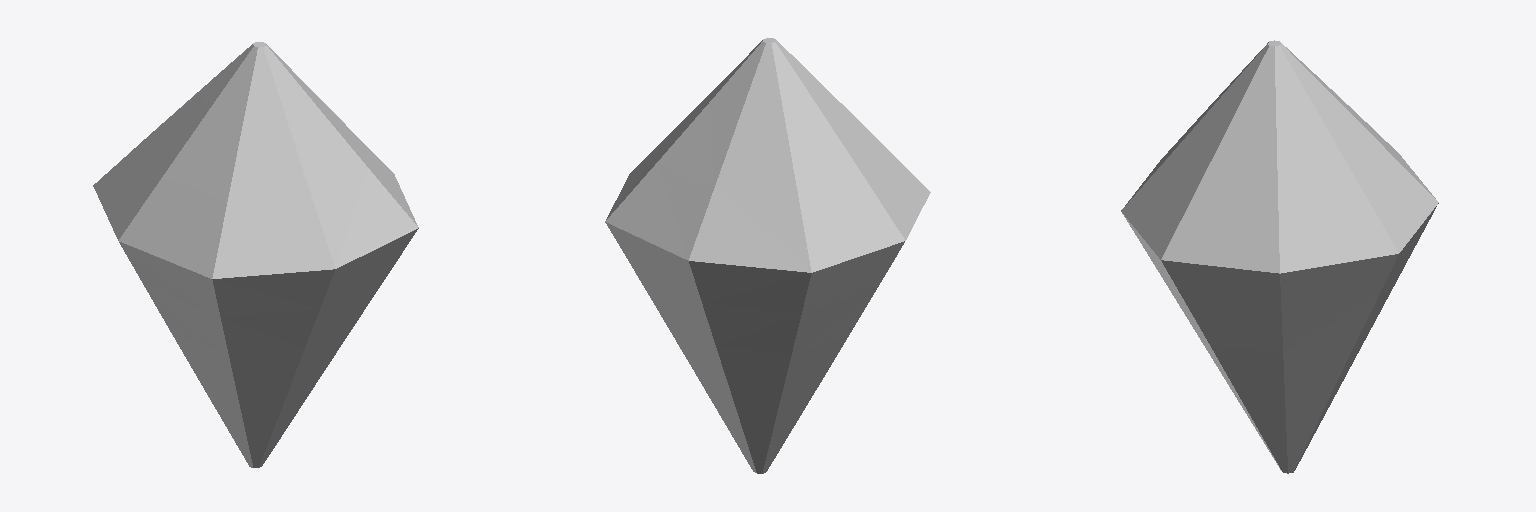
File: diamond.obj
The picture shows the model from 3 angles: view 1: azimuth 30°, elevation 25°; view 2: azimuth 150°, elevation 25°; view 3: azimuth 270°, elevation 25°; orthographic projection.
Visible parts, largest first — view 1: Mesh_0; view 2: Mesh_0; view 3: Mesh_0.
Part boxes in pixels (x1,y1,x2,y2): Mesh_0: (93,42,418,467); Mesh_0: (605,38,930,473); Mesh_0: (1121,40,1438,473).
Size of the model in its own units: 0.2334 by 0.3454 by 0.2333.